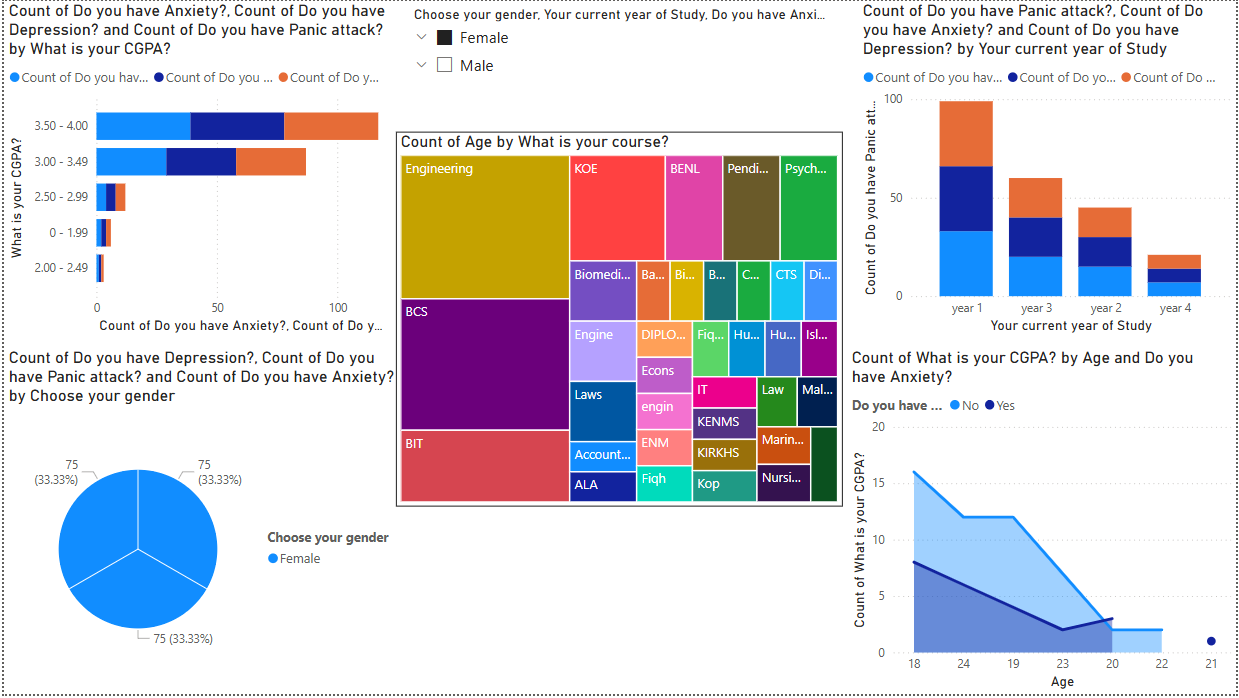

The page's visual inventory and layout, read from the dashboard file:
{"tool":"powerbi","page":{"name":"Page 1","canvas":[1280,720],"ordinal":0},"visuals":[{"type":"barChart","fields":{"Category":["Student Mental health.What is your CGPA?"],"Y":["CountNonNull(Student Mental health.Do you have Anxiety?)","CountNonNull(Student Mental health.Do you have Depression?)","CountNonNull(Student Mental health.Do you have Panic attack?)"]},"box":[0,0,411.4,350],"z":0},{"type":"pieChart","fields":{"Category":["Student Mental health.Choose your gender"],"Y":["CountNonNull(Student Mental health.Do you have Depression?)","CountNonNull(Student Mental health.Do you have Panic attack?)","CountNonNull(Student Mental health.Do you have Anxiety?)"]},"box":[0,360,411.4,360],"z":1000},{"type":"columnChart","fields":{"Category":["Student Mental health.Your current year of Study"],"Y":["CountNonNull(Student Mental health.Do you have Panic attack?)","CountNonNull(Student Mental health.Do you have Anxiety?)","CountNonNull(Student Mental health.Do you have Depression?)"]},"box":[887.1,0,392.9,350],"z":2000},{"type":"areaChart","fields":{"Category":["Student Mental health.Age"],"Y":["CountNonNull(Student Mental health.What is your CGPA?)"],"Series":["Student Mental health.Do you have Anxiety?"]},"box":[875.7,360,404.3,360],"z":3000},{"type":"treemap","fields":{"Group":["Student Mental health.What is your course?"],"Values":["CountNonNull(Student Mental health.Age)"]},"box":[407.1,135.7,464.3,390],"z":4000},{"type":"slicer","fields":{"Values":["Student Mental health.Choose your gender","Student Mental health.Your current year of Study","Student Mental health.Do you have Anxiety?","Student Mental health.Do you have Depression?","Student Mental health.Do you have Panic attack?"]},"box":[412.9,0,464.3,130],"z":5000}]}

Visuals, with their boxes in screenshot pixels (x1, y1, x2, y2), scaled from the page's 1280x720 canvas onto the 1239x698 screenshot:
barChart - Student Mental health.What is your CGPA? x CountNonNull(Student Mental health.Do you have Anxiety?): [0, 0, 398, 339]
pieChart - Student Mental health.Choose your gender x CountNonNull(Student Mental health.Do you have Depression?): [0, 349, 398, 697]
columnChart - Student Mental health.Your current year of Study x CountNonNull(Student Mental health.Do you have Panic attack?): [859, 0, 1238, 339]
areaChart - Student Mental health.Age x CountNonNull(Student Mental health.What is your CGPA?): [848, 349, 1238, 697]
treemap - Student Mental health.What is your course? x CountNonNull(Student Mental health.Age): [394, 132, 843, 510]
slicer - Student Mental health.Choose your gender x Student Mental health.Your current year of Study: [400, 0, 849, 126]
